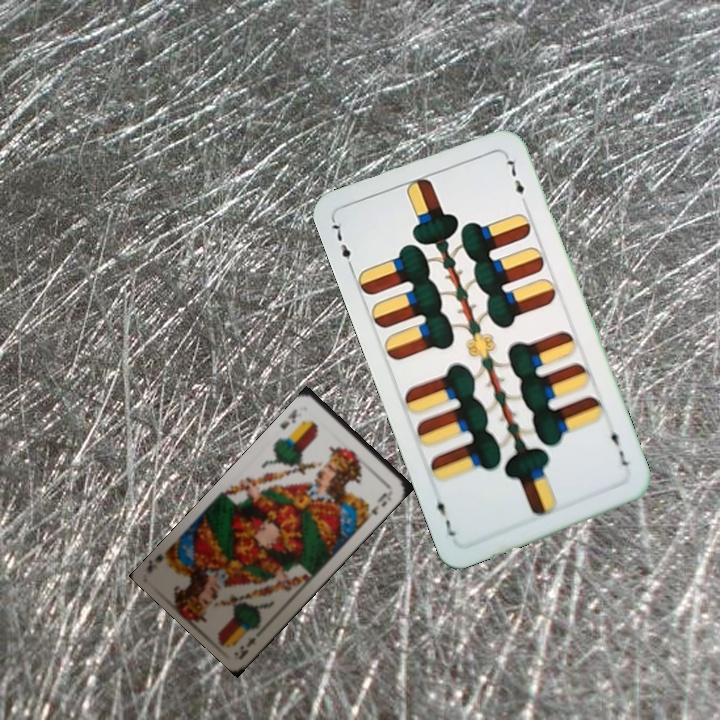E7: (327, 216, 356, 273), (606, 422, 633, 469)
EK: (276, 405, 300, 432), (236, 633, 258, 660)
